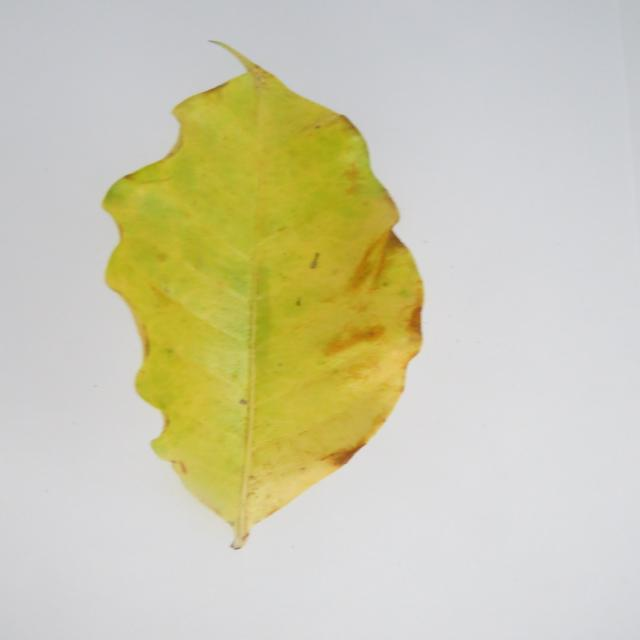DeficienciaNutricional-Calcio: (103, 42, 423, 549)
